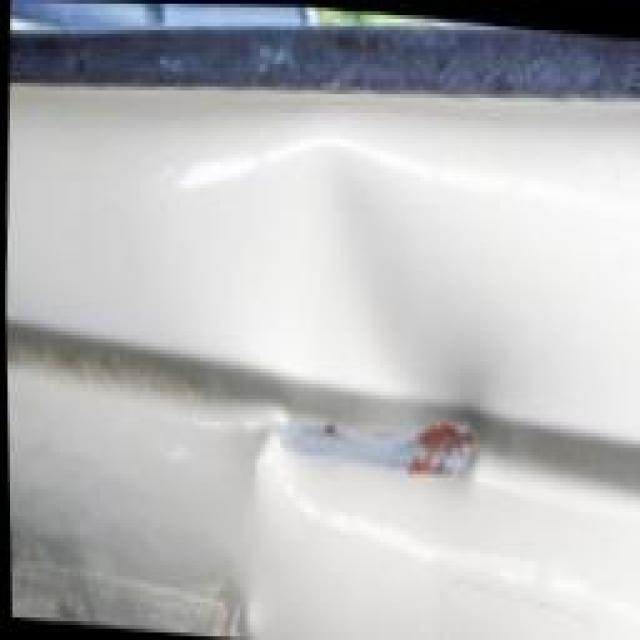Door: (0, 79, 639, 640)
